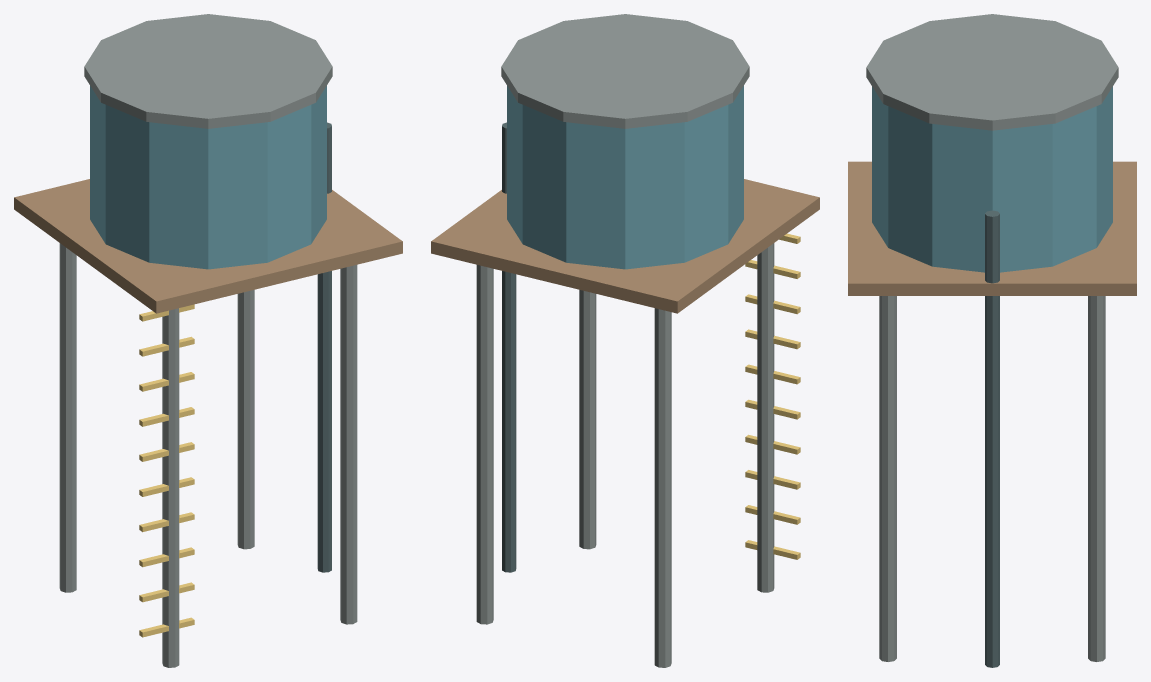
The model's file is town_water_tower.glb.
3 views of the same model, side by side, from view 1: azimuth 30°, elevation 25°; view 2: azimuth 150°, elevation 25°; view 3: azimuth 270°, elevation 25° (orthographic).
Parts seen in each view (by area): view 1: clean water reservoir, reservoir roof, water tower platform, water tower leg.003, water tower leg, water tower leg.001, water feed pipe, water tower leg.002; view 2: clean water reservoir, reservoir roof, water tower platform, water tower leg.002, water tower leg, water tower leg.001, water feed pipe, water tower leg.003; view 3: clean water reservoir, reservoir roof, water tower platform, water feed pipe, water tower leg.002, water tower leg.003.
Part boxes in pixels (box(x1,y1,x2,y2)): clean water reservoir: box(90, 86, 326, 269); reservoir roof: box(84, 14, 332, 128); water tower platform: box(14, 179, 402, 313); water tower leg.003: box(340, 265, 357, 624); water tower leg: box(59, 243, 76, 592); water tower leg.001: box(162, 308, 179, 667); water feed pipe: box(317, 122, 331, 572); water tower leg.002: box(237, 290, 254, 549); clean water reservoir: box(507, 86, 743, 269); reservoir roof: box(501, 14, 749, 128); water tower platform: box(431, 179, 819, 313); water tower leg.002: box(476, 265, 493, 624); water tower leg: box(654, 308, 671, 667); water tower leg.001: box(757, 243, 774, 592); water feed pipe: box(502, 122, 516, 572); water tower leg.003: box(579, 290, 596, 549); clean water reservoir: box(872, 86, 1112, 272); reservoir roof: box(866, 14, 1118, 130); water tower platform: box(848, 161, 1136, 295); water feed pipe: box(985, 210, 999, 667); water tower leg.002: box(1088, 296, 1105, 661); water tower leg.003: box(879, 296, 896, 661).
Size of the model in its own units: 3.6 by 7.52 by 3.6.
